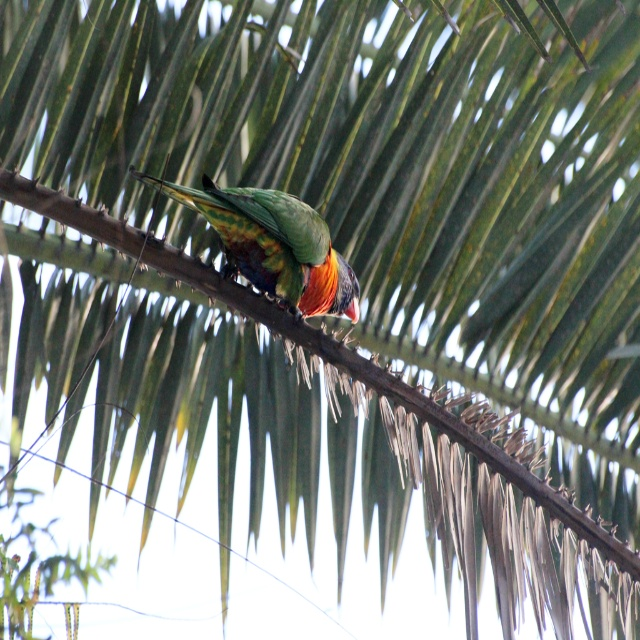Parrot: (132, 162, 361, 336)
